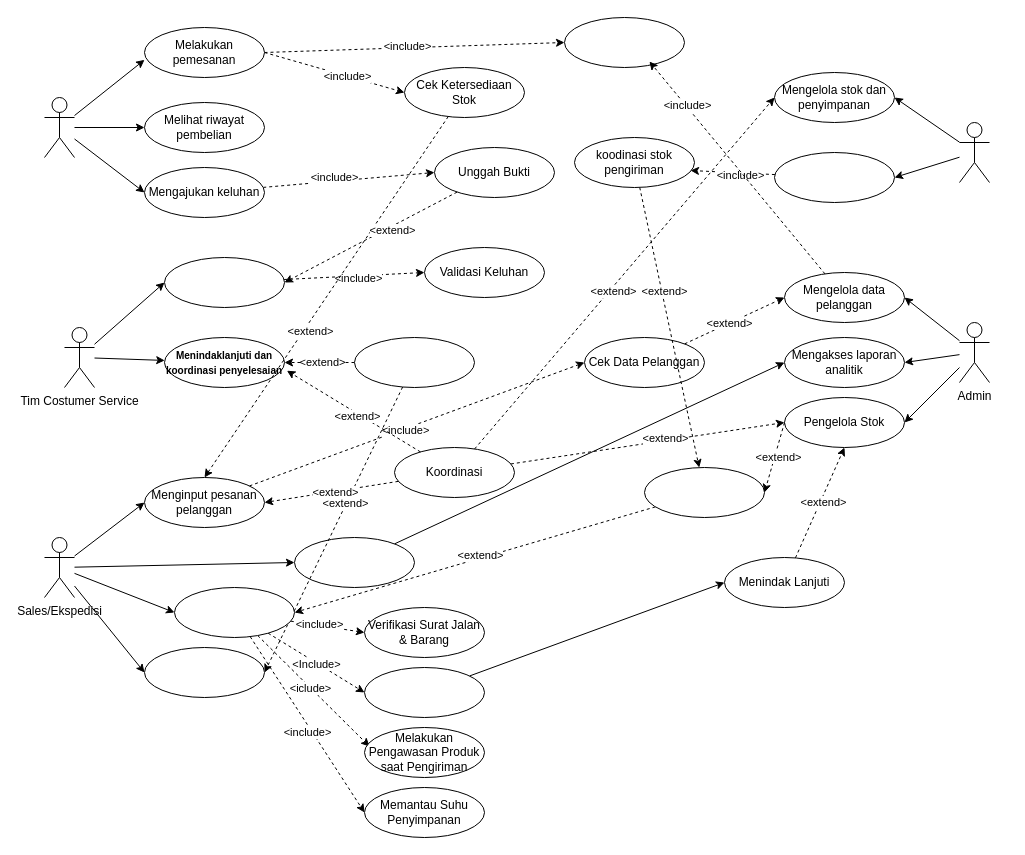
The diagram is 1025 pixels wide and 855 high, and some of its shapes have lost their labels. The shapes that lost their labels are listed below. From the top down, each one's centre as x and y in pixels, then its label:
At pixel 624 42: "Validasi Data Pelanggan".
At pixel 59 127: "Pelanggan".
At pixel 974 152: "Tim Gudang".
At pixel 834 177: "Menyiapkan pengiriman".
At pixel 224 282: "Mencatat keluhan pelanggan".
At pixel 414 362: "Melakukan Tindak Lanjut".
At pixel 704 492: "Cetak Surat Jalan".
At pixel 354 562: "Melaporkan feedback pelanggan".
At pixel 234 612: "Pengiriman barang".
At pixel 204 672: "Penarikan Barang".
At pixel 424 692: "Bon Pengeluaran/Penarikan".
